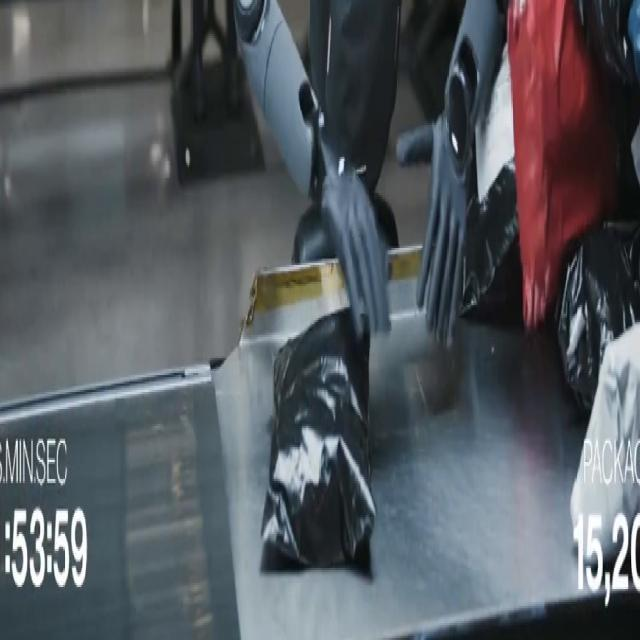package: (508, 0, 617, 328), (262, 310, 376, 565), (461, 47, 521, 326), (570, 325, 639, 561), (558, 223, 639, 411), (577, 0, 639, 218), (461, 162, 522, 326), (576, 0, 635, 84), (608, 83, 639, 220), (627, 0, 639, 82)
